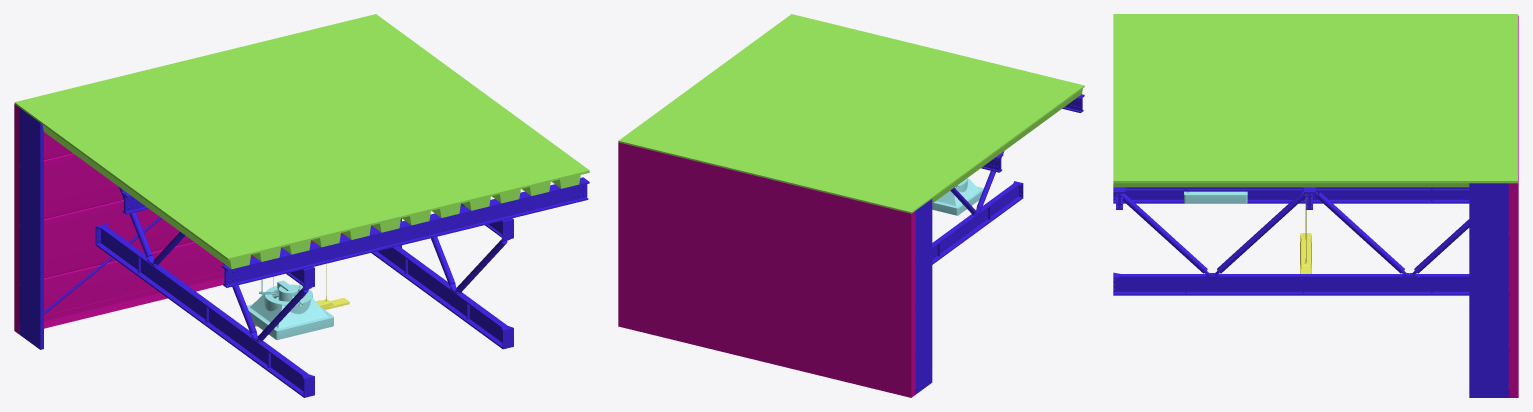
The model's file is Roof_A.glb.
The picture shows the model from 3 angles, left to right: view 1: azimuth 30°, elevation 25°; view 2: azimuth 150°, elevation 25°; view 3: azimuth 270°, elevation 25°; orthographic projection. The views are drawn at different scales.
Visible parts, largest first — view 1: Roof_A; view 2: Roof_A; view 3: Roof_A.
Boxes of the visible parts, <box> form: Roof_A: <box>14,14,589,397</box>; Roof_A: <box>618,14,1084,397</box>; Roof_A: <box>1113,14,1518,397</box>.
Bounding box in the file's own units: 10 × 6.05 × 10.25.
